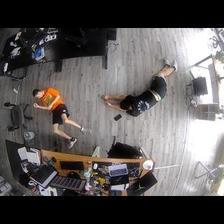fall: (103, 55, 179, 116), (30, 87, 89, 148)
